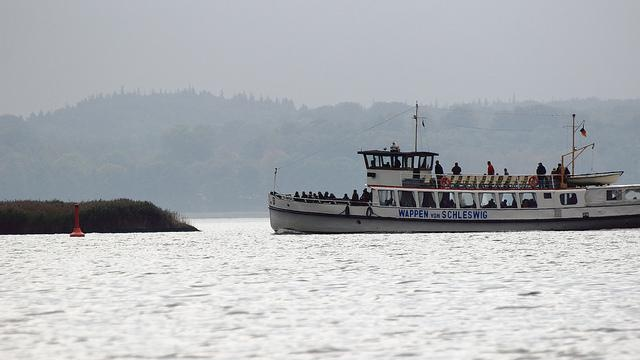otherboat: (241, 139, 640, 238)
